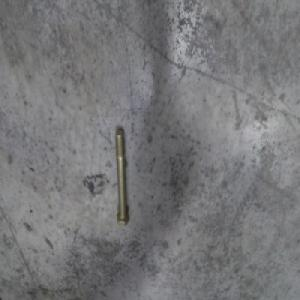Bolt: (112, 128, 130, 229)
